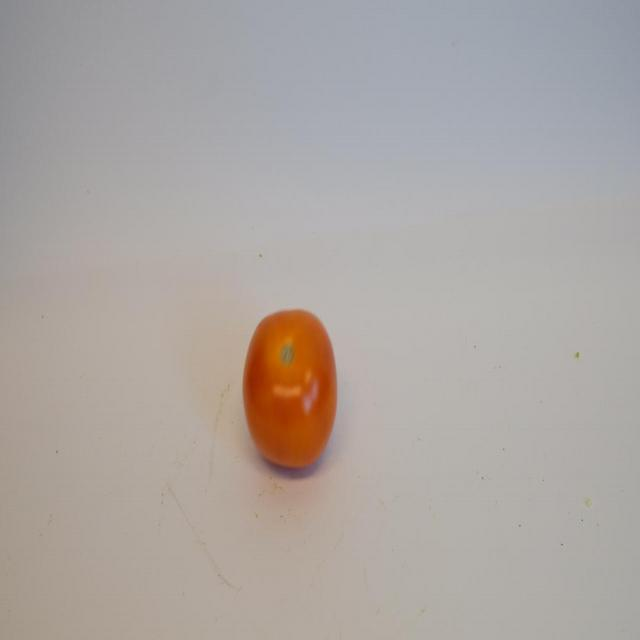tomato: (242, 307, 338, 468)
